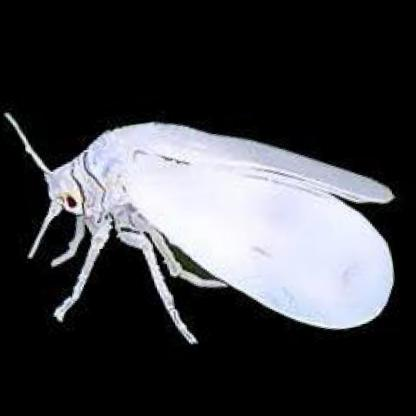whitefly: (7, 114, 395, 348)
